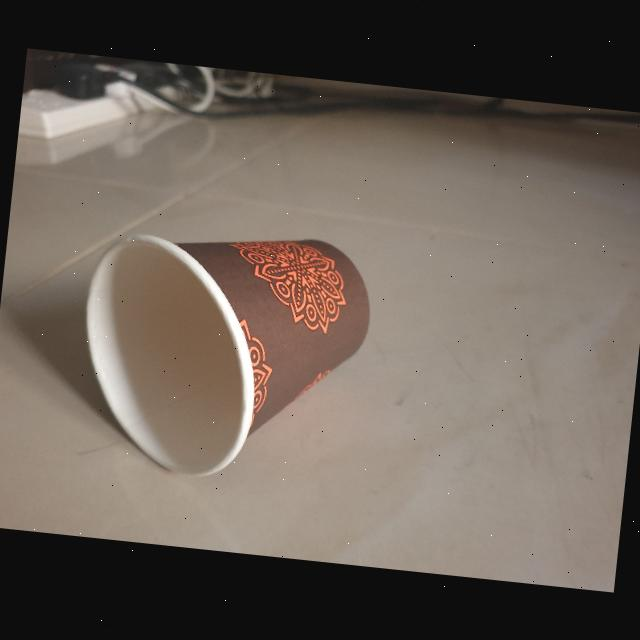trash: (63, 215, 388, 500)
